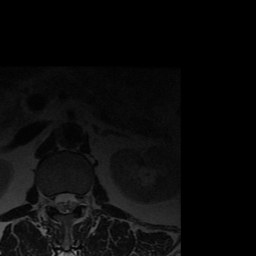CCS_normal: (62, 186, 68, 218)
LFS_normal: (76, 189, 84, 212)
LLS_normal: (68, 189, 76, 213)
RFS_normal: (47, 189, 55, 214)
RLS_normal: (55, 188, 62, 214)
